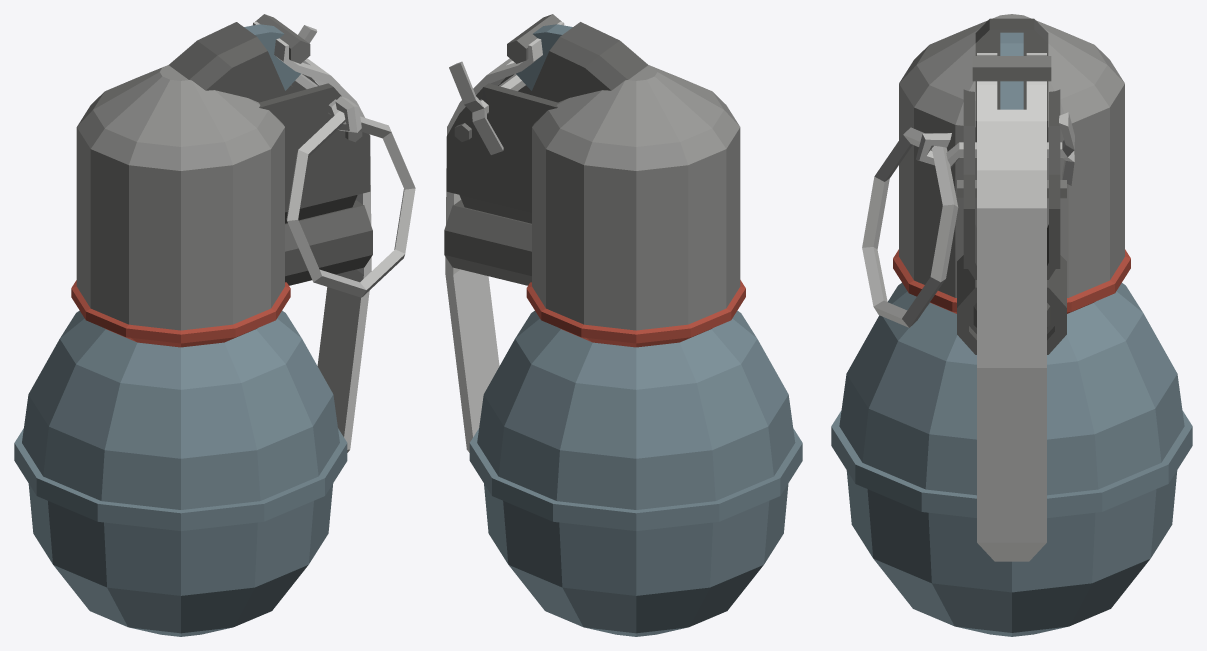
The model's file is SM_Bomb_02.fbx.
The picture shows the model from 3 angles, left to right: view 1: azimuth 30°, elevation 25°; view 2: azimuth 150°, elevation 25°; view 3: azimuth 270°, elevation 25°; orthographic projection. The views are drawn at different scales.
Visible parts, largest first — view 1: SM_Bomb_02; view 2: SM_Bomb_02; view 3: SM_Bomb_02.
Part boxes in pixels (bbox=[...]): SM_Bomb_02: bbox=[14, 14, 415, 636]; SM_Bomb_02: bbox=[444, 14, 802, 636]; SM_Bomb_02: bbox=[831, 14, 1192, 636].
Size of the model in its own units: 2.58 by 4.09 by 2.15.
Materials: 1 (1 with a texture image).
